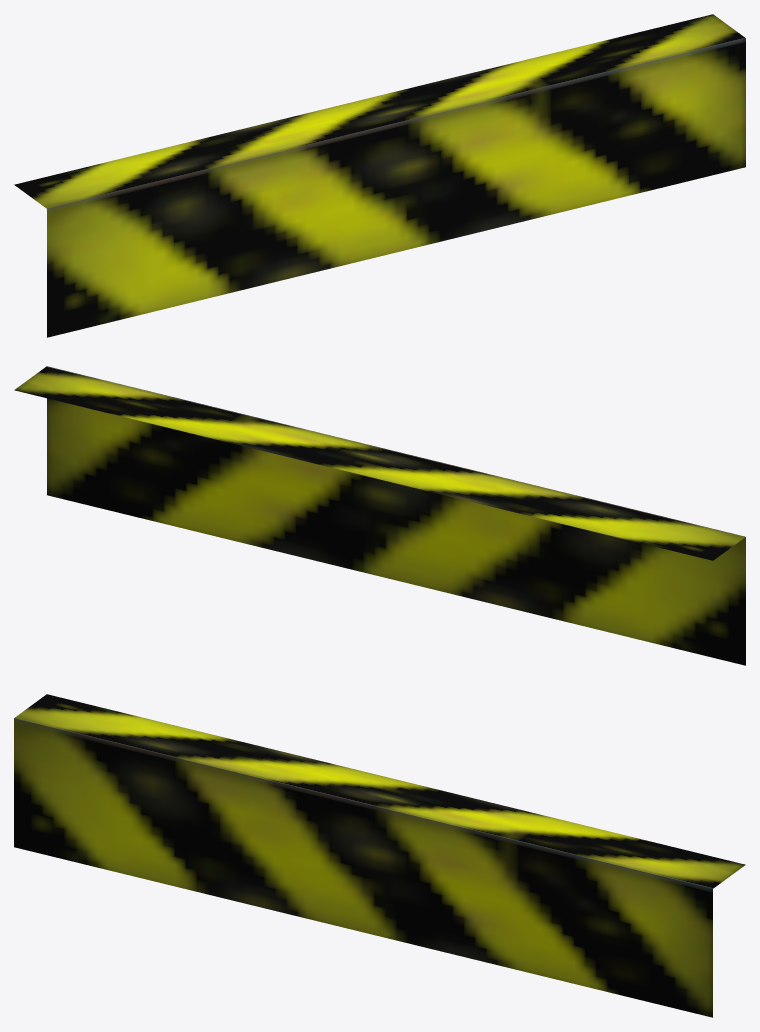
Rendered from Barrikade_2345.glb.
3 renders of one model, top to bottom at view 1: azimuth 30°, elevation 25°; view 2: azimuth 150°, elevation 25°; view 3: azimuth 330°, elevation 25°, orthographic.
Visible parts, largest first — view 1: pPlaneShape136, pPlaneShape135; view 2: pPlaneShape136, pPlaneShape135; view 3: pPlaneShape136, pPlaneShape135.
Boxes of the visible parts, x1,y1,x2,y2 form: pPlaneShape136: (47, 38, 745, 337); pPlaneShape135: (14, 14, 745, 208); pPlaneShape136: (47, 398, 745, 665); pPlaneShape135: (14, 366, 745, 560); pPlaneShape136: (14, 718, 712, 1017); pPlaneShape135: (14, 694, 745, 888).
Size of the model in its own units: 0.4271 by 0.0753 by 0.0348.
Materials: 2 (2 with a texture image).
